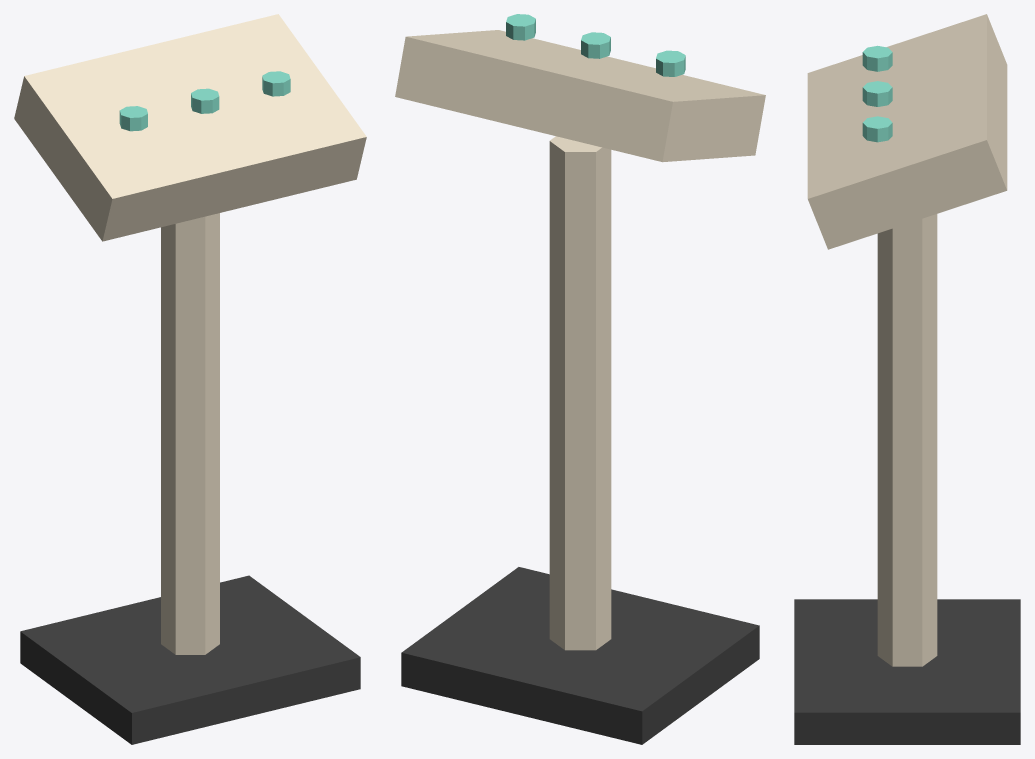
3 renders of one model, left to right at view 1: azimuth 30°, elevation 25°; view 2: azimuth 150°, elevation 25°; view 3: azimuth 270°, elevation 25°, orthographic. The views are drawn at different scales.
Parts seen in each view (by area): view 1: Control console, Foot, Stand, Control button.002, Control button.001, Control button; view 2: Foot, Stand, Control console, Control button.001, Control button.002, Control button; view 3: Control console, Foot, Stand, Control button, Control button.002, Control button.001.
Part boxes in pixels (x1,y1,x2,y2): Control console: [14, 14, 366, 241]; Foot: [20, 575, 360, 744]; Stand: [161, 213, 219, 654]; Control button.002: [262, 71, 290, 96]; Control button.001: [191, 88, 219, 113]; Control button: [119, 106, 147, 131]; Foot: [401, 567, 759, 744]; Stand: [549, 136, 611, 650]; Control console: [395, 30, 765, 162]; Control button.001: [581, 32, 610, 58]; Control button.002: [506, 14, 535, 40]; Control button: [656, 50, 685, 76]; Control console: [807, 14, 1007, 249]; Foot: [794, 599, 1020, 744]; Stand: [877, 214, 937, 666]; Control button: [862, 45, 892, 71]; Control button.002: [862, 116, 892, 142]; Control button.001: [862, 81, 892, 106].
Bounding box in the file's own units: 0.5 × 1.13 × 0.38.
Materials: 1 (1 with a texture image).
